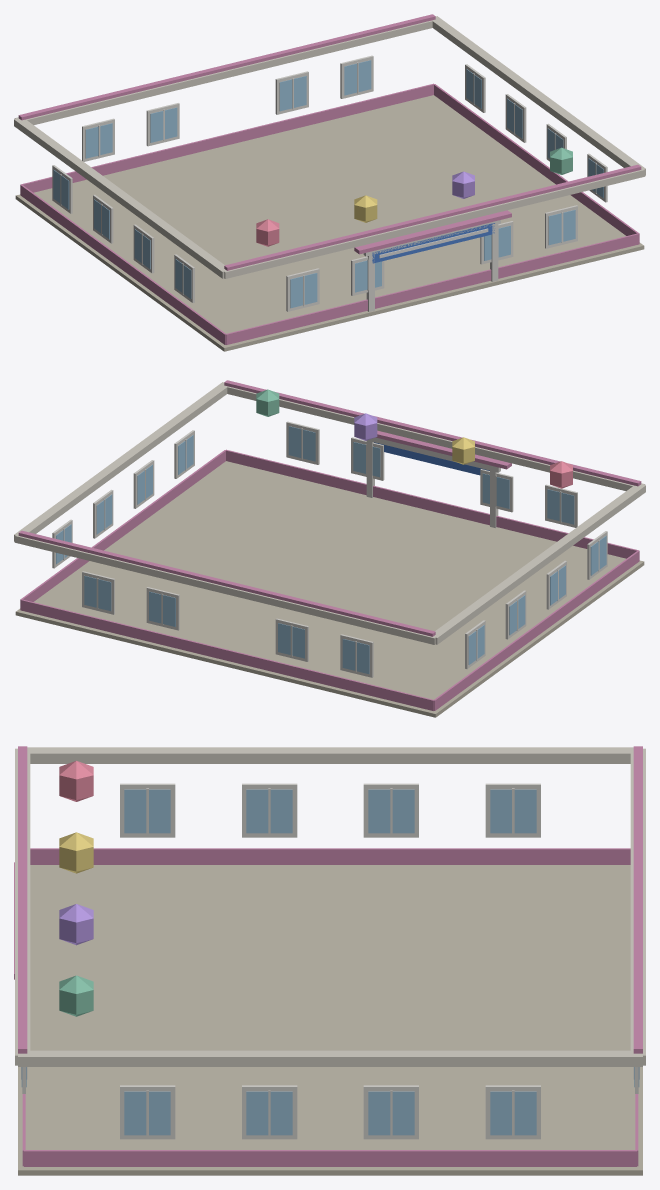
The model's file is facade_creator_studio.glb.
3 renders of one model, top to bottom at view 1: azimuth 30°, elevation 25°; view 2: azimuth 150°, elevation 25°; view 3: azimuth 270°, elevation 25°, orthographic. The views are drawn at different scales.
Size of the model in its own units: 14.42 by 3.35 by 12.44.
